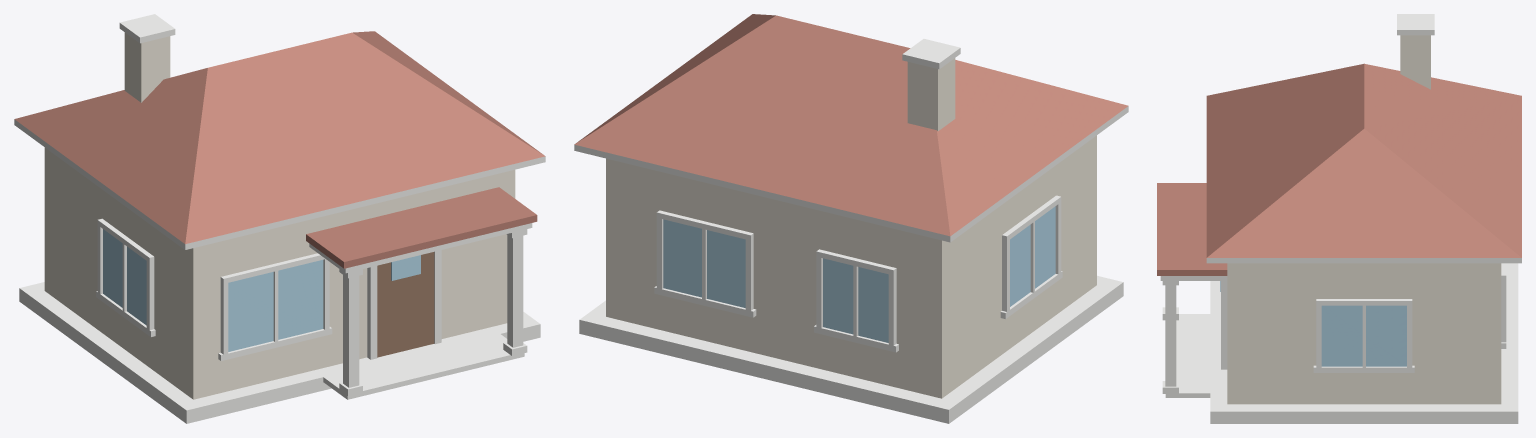
The model's file is rumah_c.fbx.
3 renders of one model, left to right at view 1: azimuth 30°, elevation 25°; view 2: azimuth 150°, elevation 25°; view 3: azimuth 270°, elevation 25°, orthographic. The views are drawn at different scales.
Parts seen in each view (by area): view 1: ShellRoof, ShellWall, ShellTrim, ShellGlass, ShellDoor; view 2: ShellRoof, ShellWall, ShellTrim, ShellGlass; view 3: ShellRoof, ShellWall, ShellTrim, ShellGlass.
Boxes of the visible parts, x1,y1,x2,y2 form: ShellRoof: (14, 31, 545, 268); ShellWall: (44, 32, 515, 399); ShellTrim: (14, 14, 545, 423); ShellGlass: (103, 229, 420, 351); ShellDoor: (377, 252, 434, 357); ShellRoof: (574, 14, 1128, 236); ShellWall: (606, 58, 1096, 398); ShellTrim: (574, 39, 1128, 423); ShellGlass: (663, 206, 1055, 342); ShellRoof: (1157, 63, 1521, 275); ShellWall: (1227, 35, 1501, 404); ShellTrim: (1160, 14, 1521, 423); ShellGlass: (1220, 281, 1406, 366).
Bounding box in the file's own units: 22.4 × 17.75 × 21.3.
